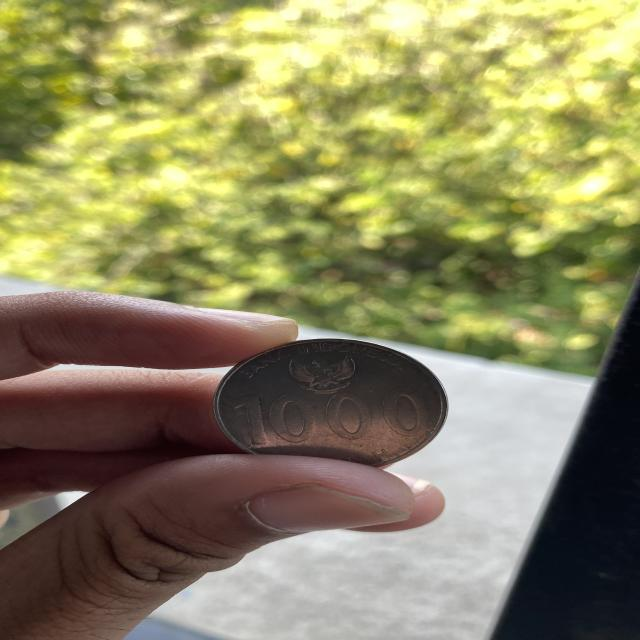1000-angklung: (213, 333, 481, 496)
